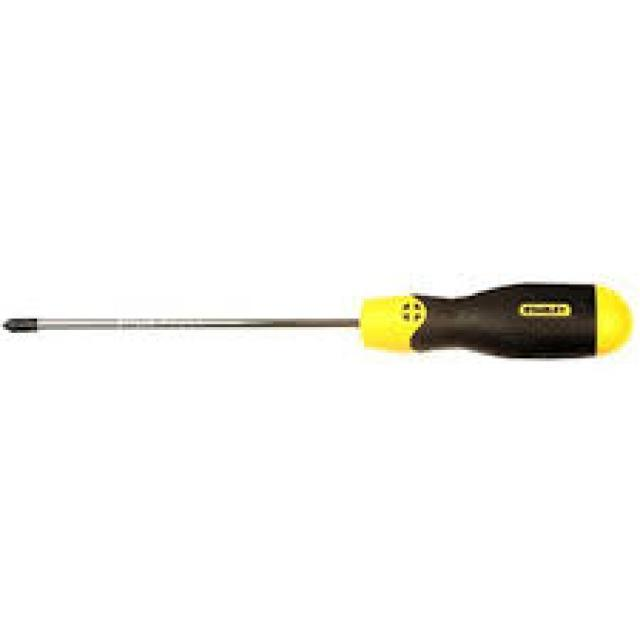screwdriver: (0, 278, 634, 364)
